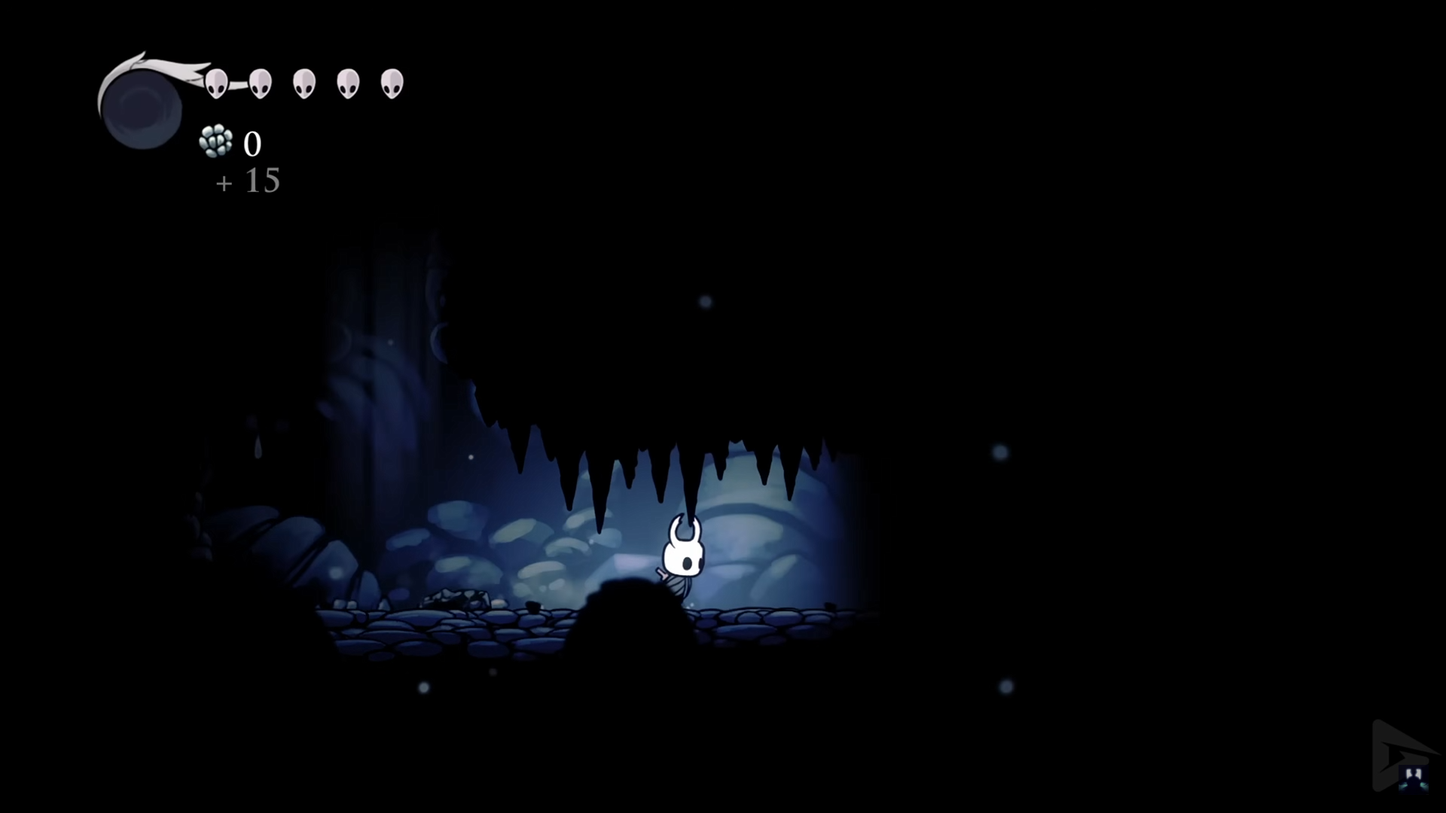HK: (654, 512, 708, 611)
